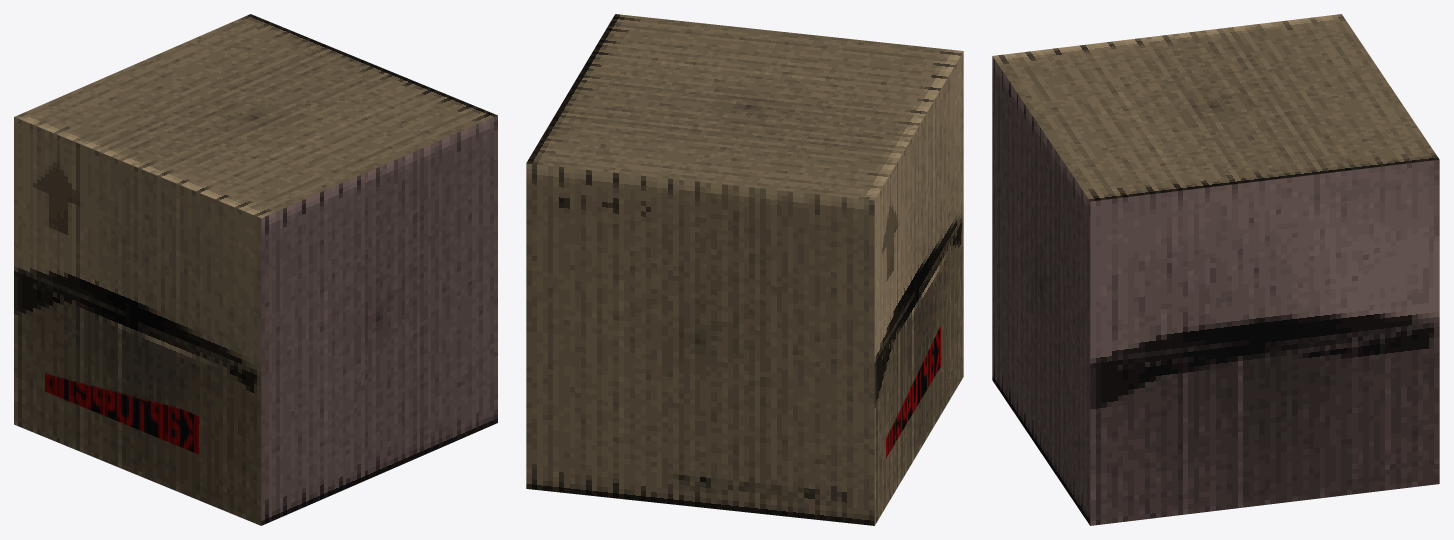
The model's file is primary_066.glb.
3 views of the same model, side by side, from view 1: azimuth 30°, elevation 25°; view 2: azimuth 150°, elevation 25°; view 3: azimuth 270°, elevation 25° (orthographic). The views are drawn at different scales.
Parts seen in each view (by area): view 1: Object; view 2: Object; view 3: Object.
Boxes of the visible parts, x1,y1,x2,y2 form: Object: (14, 14, 497, 525); Object: (526, 14, 963, 525); Object: (992, 14, 1439, 525).
Bounding box in the file's own units: 1.36 × 1.09 × 1.37.
Materials: 7 (7 with a texture image).
